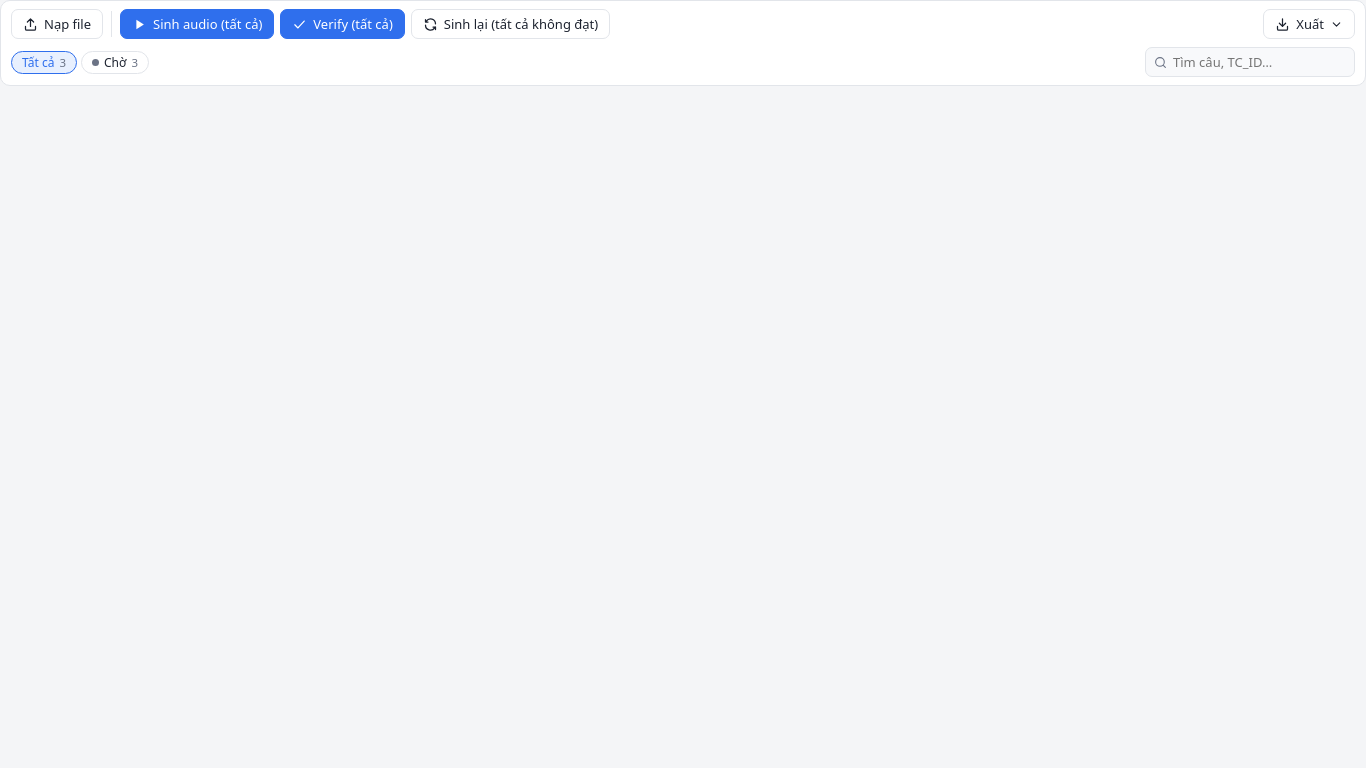
RunBar › exports through the menu
Click the button "Xuất".
click(1309, 24)  # box [1263, 9, 1355, 39]
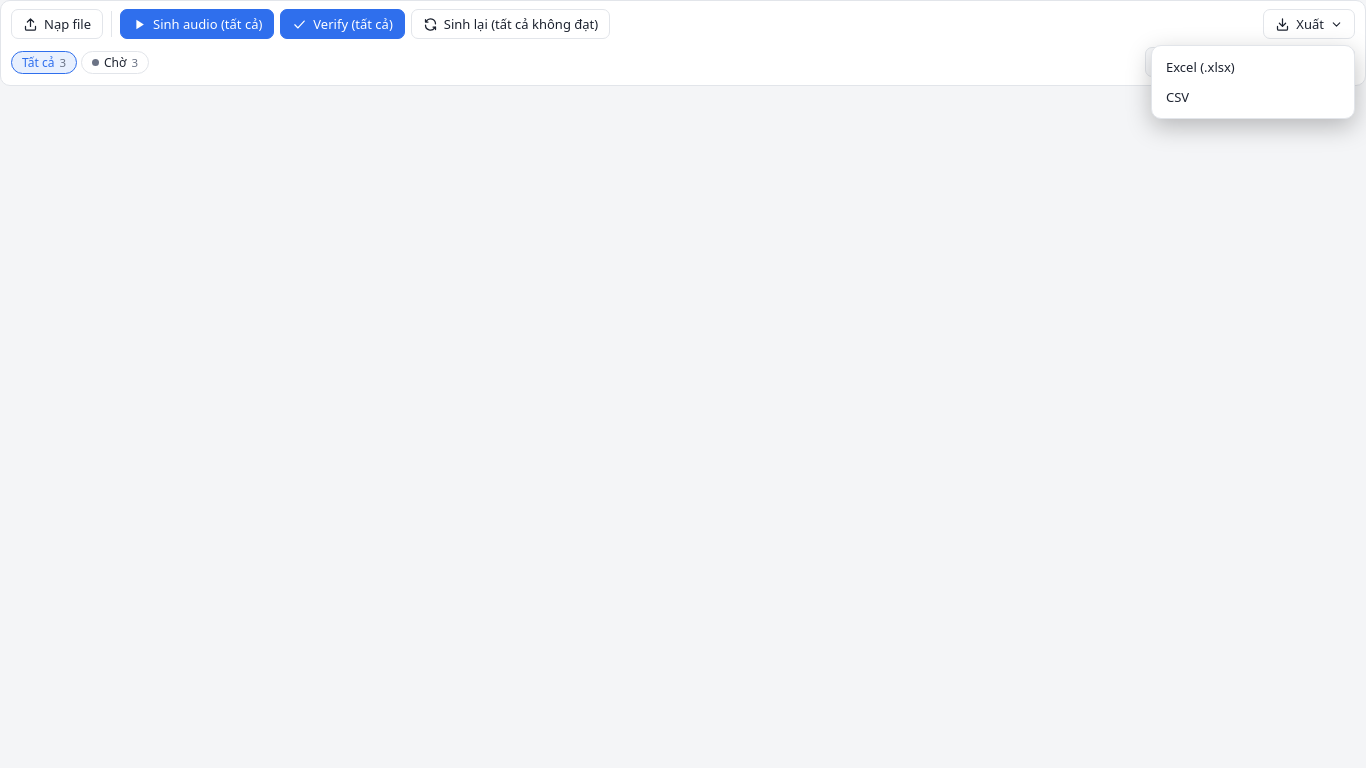
Click the button "CSV".
click(1253, 97)  # box [1158, 82, 1348, 112]
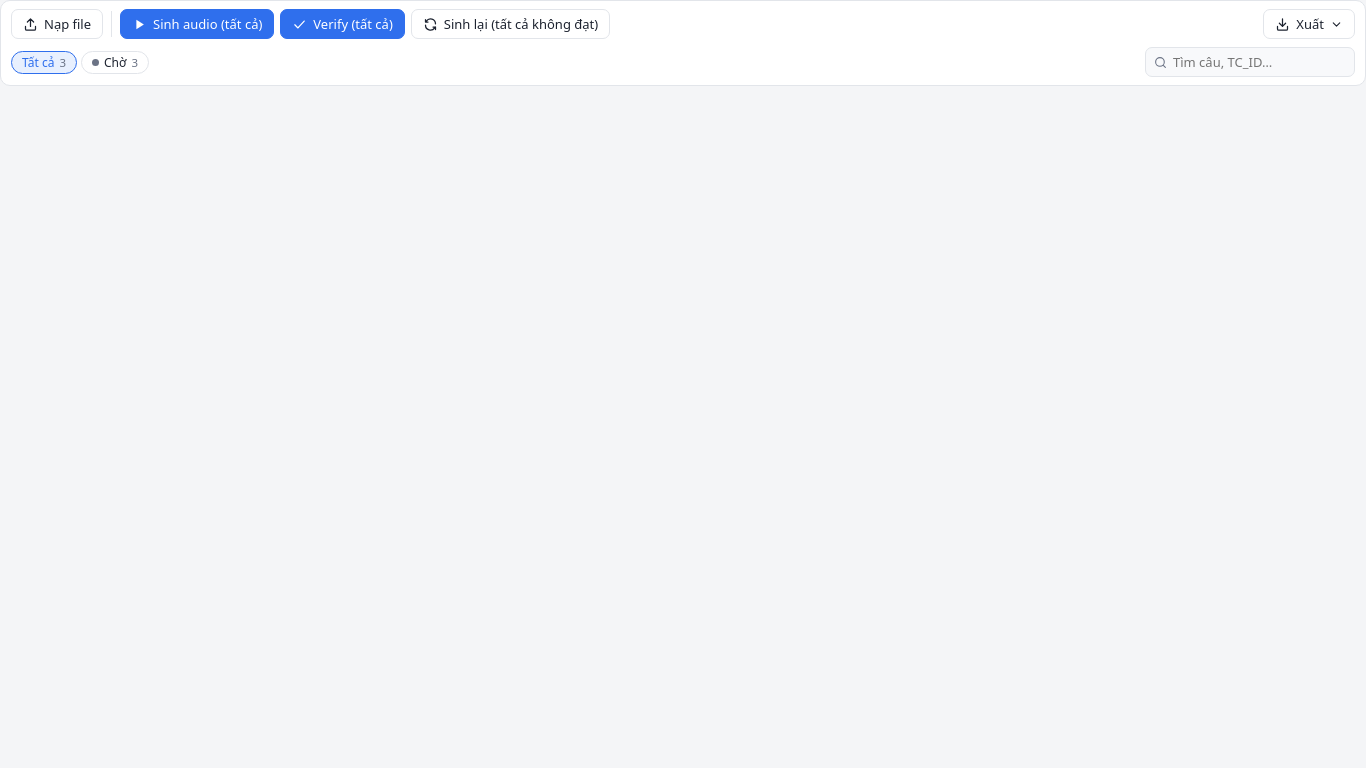
Now the button "CSV" is gone
